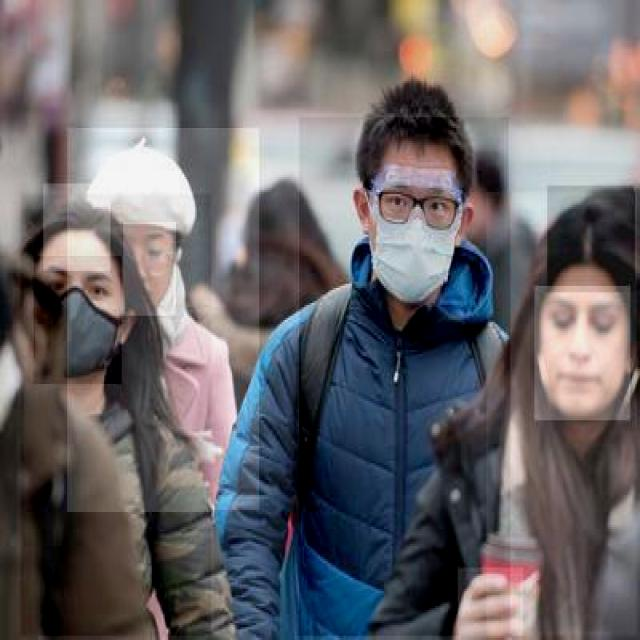face_mask: (368, 160, 462, 305), (34, 256, 122, 384)
face_nomask: (534, 286, 630, 420), (123, 222, 176, 316)
glasses: (374, 187, 460, 236)
hand_noglove: (458, 567, 524, 638)
head_nohelmet: (547, 186, 635, 292), (358, 85, 459, 168), (44, 183, 110, 271)
person: (300, 117, 510, 638), (21, 194, 213, 638), (67, 128, 261, 512), (486, 192, 638, 638)
